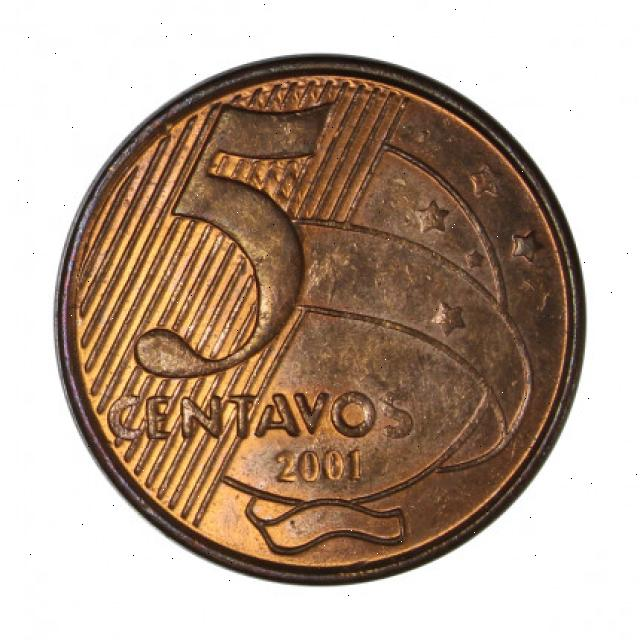5 cent: (53, 56, 590, 582)
